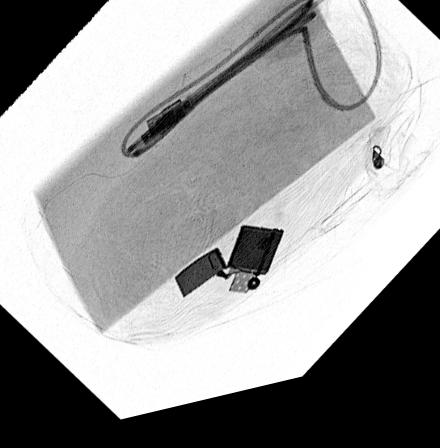Lighter: (174, 236, 284, 307)
